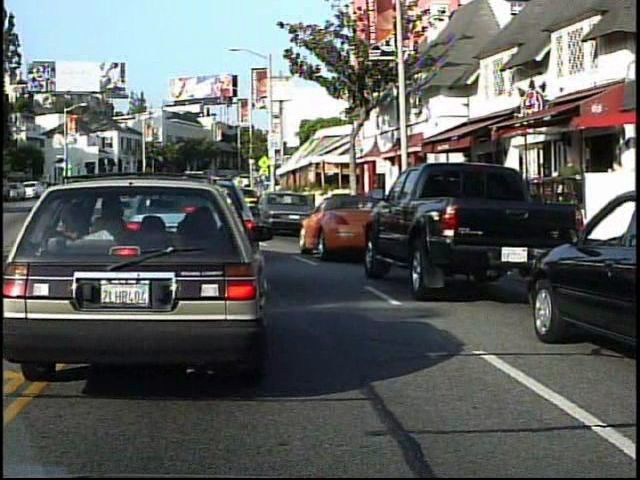person: (556, 151, 586, 225)
